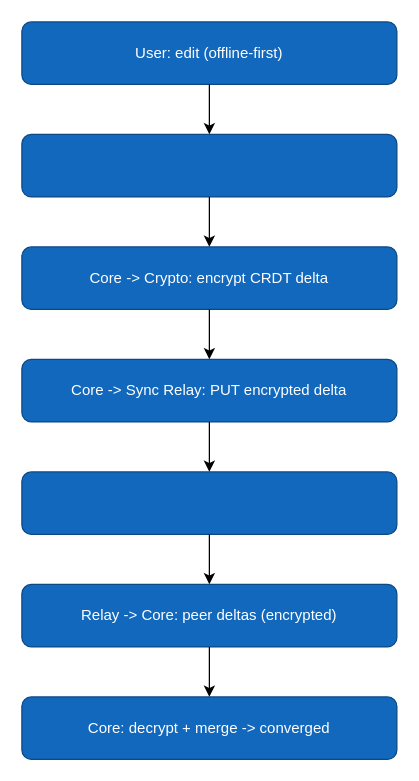
The diagram is 419 pixels wide and 781 high, and some of its shapes have lost their labels. Each missing label, with the centre of its shape:
"Core -> crdt-sync: apply local op" belongs at point (209, 165).
"Relay -> Object Store: opaque blob" belongs at point (209, 502).
